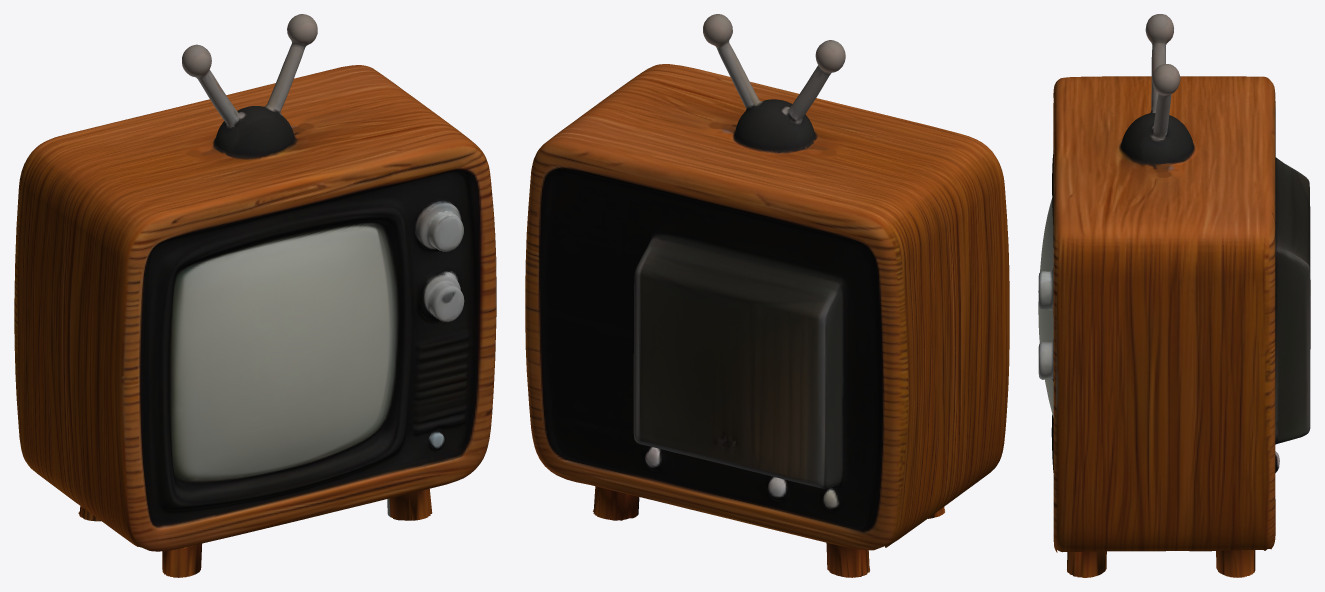
File: old-tv.glb
3 renders of one model, left to right at view 1: azimuth 30°, elevation 25°; view 2: azimuth 150°, elevation 25°; view 3: azimuth 270°, elevation 25°, orthographic. The views are drawn at different scales.
Parts seen in each view (by area): view 1: patrick-reference-old-tv; view 2: patrick-reference-old-tv; view 3: patrick-reference-old-tv.
Boxes of the visible parts, <box> form: patrick-reference-old-tv: <box>14,14,496,577</box>; patrick-reference-old-tv: <box>525,14,1009,577</box>; patrick-reference-old-tv: <box>1038,14,1310,577</box>.
Bounding box in the file's own units: 0.72 × 0.88 × 0.46.
Materials: 1 (1 with a texture image).
